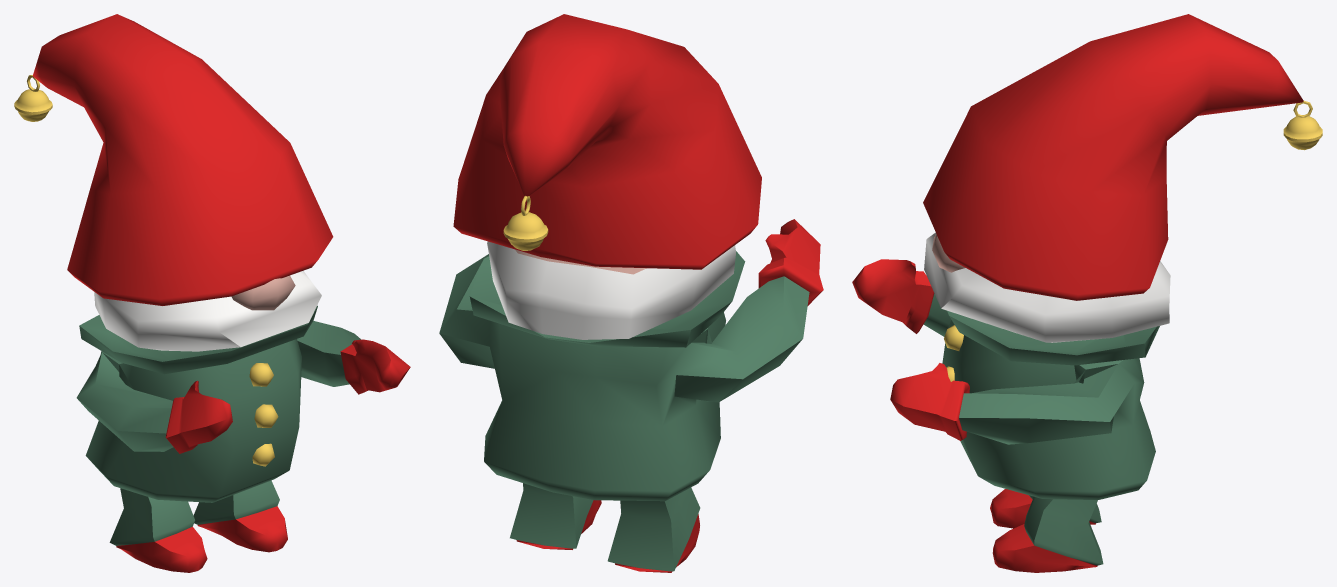
File: Elf_1.glb
3 renders of one model, left to right at view 1: azimuth 30°, elevation 25°; view 2: azimuth 150°, elevation 25°; view 3: azimuth 270°, elevation 25°, orthographic. The views are drawn at different scales.
Visible parts, largest first — view 1: Elf_1; view 2: Elf_1; view 3: Elf_1.
Part boxes in pixels (x1,y1,x2,y2): Elf_1: (14, 14, 410, 572); Elf_1: (439, 14, 823, 572); Elf_1: (852, 14, 1322, 572).
Bounding box in the file's own units: 0.8179 × 1.37 × 1.16.
Materials: 1 (1 with a texture image).
